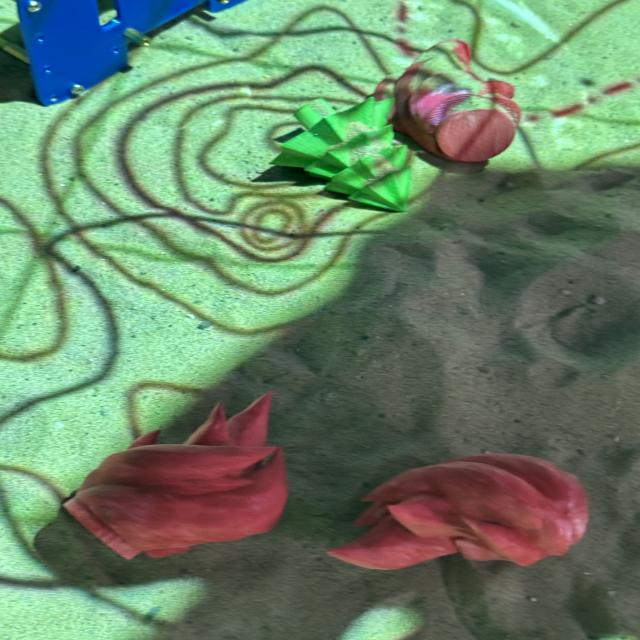fire: (61, 390, 288, 561), (326, 451, 593, 573), (379, 38, 525, 166)
tree: (271, 92, 417, 215)
